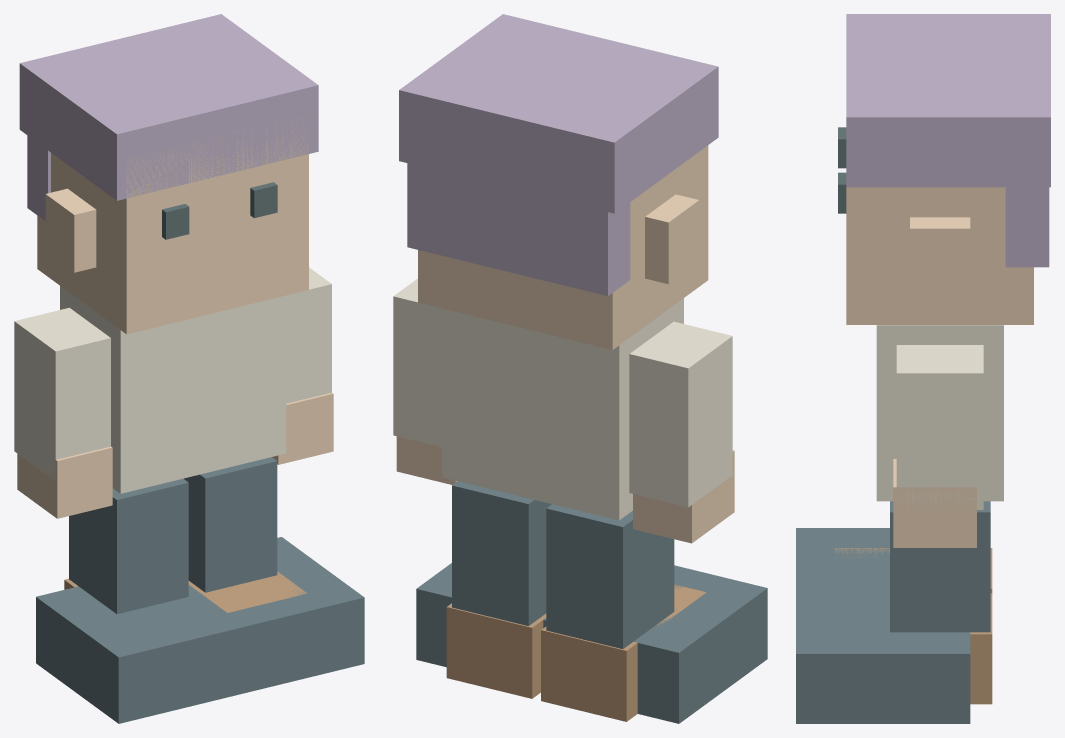
File: character-2.glb
3 renders of one model, left to right at view 1: azimuth 30°, elevation 25°; view 2: azimuth 150°, elevation 25°; view 3: azimuth 270°, elevation 25°, orthographic. The views are drawn at different scales.
Parts seen in each view (by area): view 1: body_hair2.001, body_skin2.001, sit_pants.006, body_shirt2.001, stand_pants.006, arms_shirt2.001, arms_skin2.001, stand_wood.006, body_black.006; view 2: body_hair2.001, body_shirt2.001, stand_pants.006, arms_shirt2.001, body_skin2.001, sit_pants.006, stand_wood.006, arms_skin2.001; view 3: body_hair2.001, sit_pants.006, body_skin2.001, arms_shirt2.001, stand_pants.006, body_shirt2.001, arms_skin2.001, stand_wood.006, body_black.006.
Part boxes in pixels (x1,y1,x2,y2): body_hair2.001: [19, 14, 318, 220]; body_skin2.001: [37, 116, 308, 334]; sit_pants.006: [36, 537, 364, 723]; body_shirt2.001: [60, 286, 286, 493]; stand_pants.006: [69, 457, 277, 614]; arms_shirt2.001: [14, 267, 331, 480]; arms_skin2.001: [17, 392, 333, 518]; stand_wood.006: [64, 571, 307, 612]; body_black.006: [162, 182, 277, 239]; body_hair2.001: [399, 14, 718, 295]; body_shirt2.001: [442, 298, 683, 520]; stand_pants.006: [452, 481, 674, 648]; arms_shirt2.001: [393, 278, 732, 507]; body_skin2.001: [418, 145, 708, 349]; sit_pants.006: [416, 563, 767, 723]; stand_wood.006: [446, 584, 706, 721]; arms_skin2.001: [396, 436, 734, 543]; body_hair2.001: [846, 14, 1050, 267]; sit_pants.006: [796, 528, 970, 723]; body_skin2.001: [846, 187, 1033, 324]; arms_shirt2.001: [896, 345, 983, 509]; stand_pants.006: [890, 501, 990, 632]; body_shirt2.001: [876, 325, 1003, 501]; arms_skin2.001: [893, 459, 976, 547]; stand_wood.006: [834, 548, 992, 704]; body_black.006: [838, 127, 846, 213].
Bounding box in the file's own units: 1 × 1.96 × 0.76.
